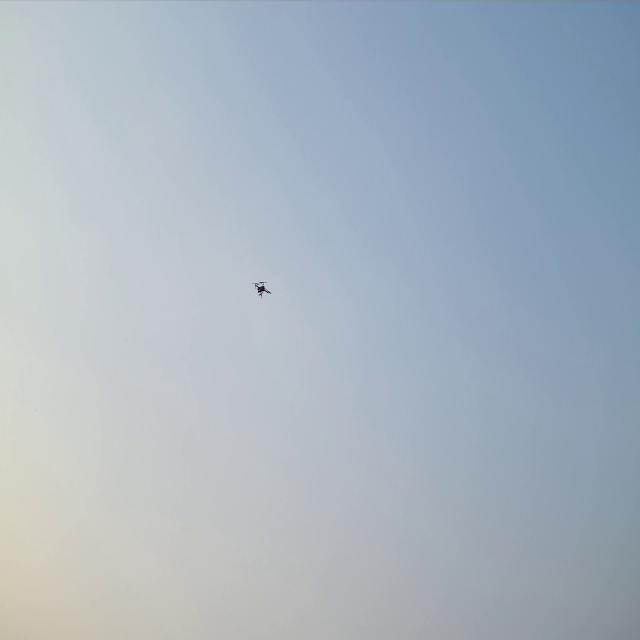UAV: (252, 279, 273, 301)
